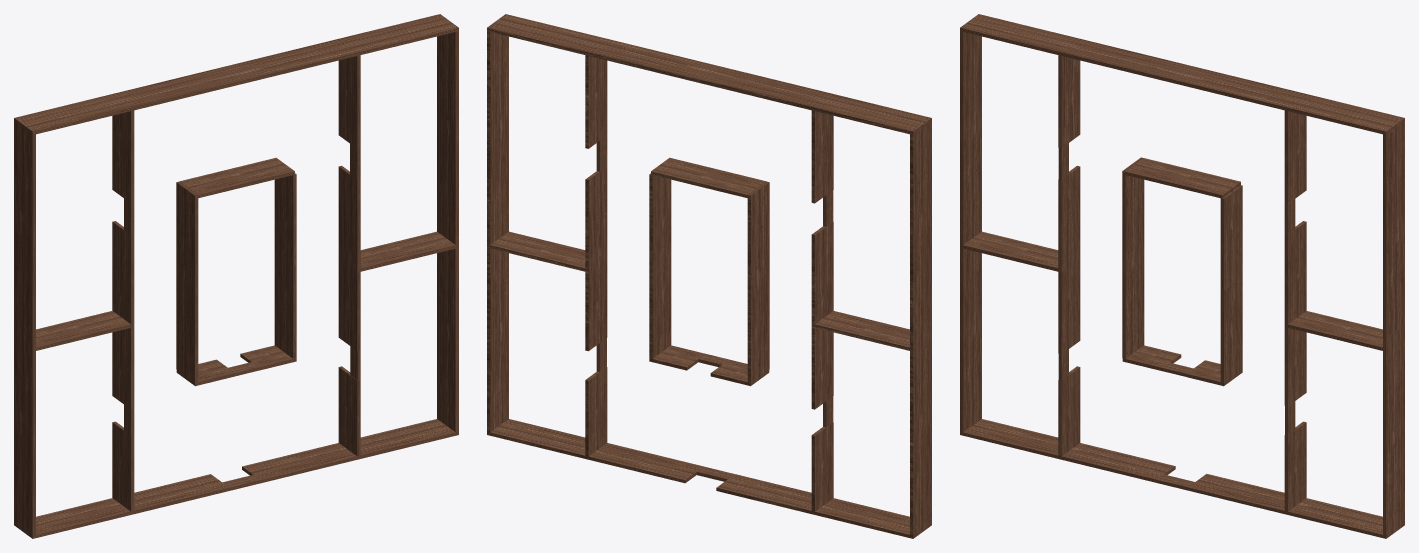
File: school.obj
3 renders of one model, left to right at view 1: azimuth 30°, elevation 25°; view 2: azimuth 150°, elevation 25°; view 3: azimuth 330°, elevation 25°, orthographic.
Visible parts, largest first — view 1: Object.1, Object.2; view 2: Object.1, Object.2; view 3: Object.1, Object.2.
Boxes of the visible parts, x1,y1,x2,y2 form: Object.1: (14,14,458,538); Object.2: (176,157,296,386); Object.1: (487,14,931,538); Object.2: (649,157,769,386); Object.1: (960,14,1404,538); Object.2: (1122,157,1242,386).
Bounding box in the file's own units: 2641 × 2412 × 200.
Materials: 1 (1 with a texture image).
